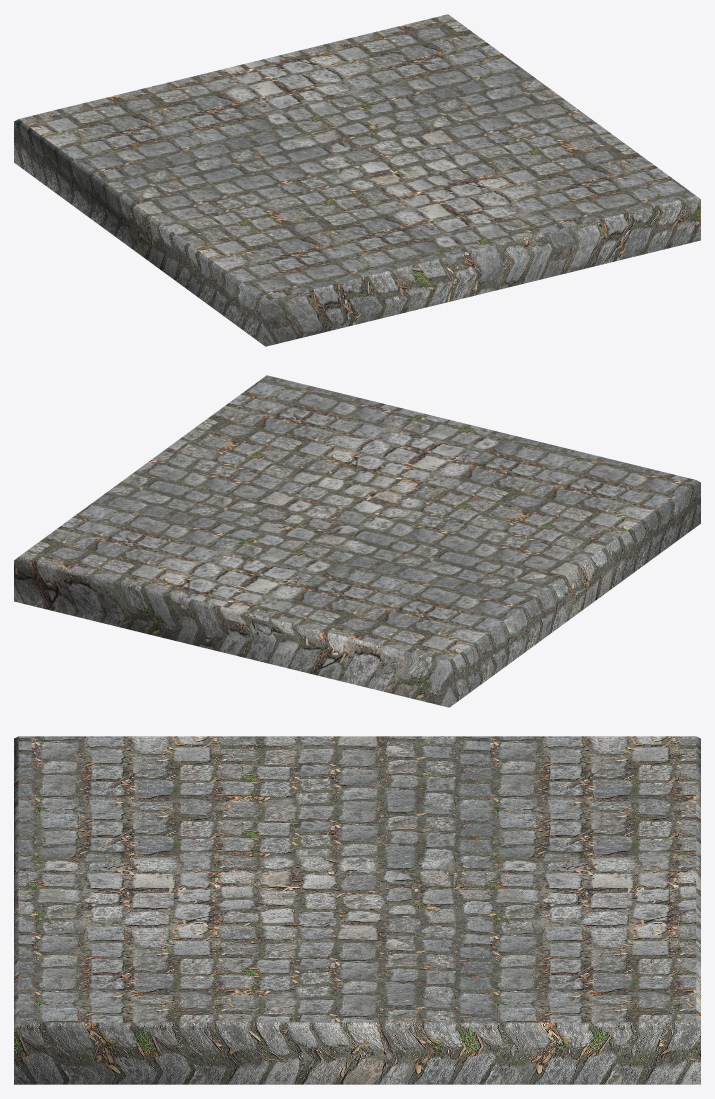
File: Floor_Spike_Anim.FBX
3 views of the same model, one above another, from view 1: azimuth 30°, elevation 25°; view 2: azimuth 150°, elevation 25°; view 3: azimuth 270°, elevation 25° (orthographic). The views are drawn at different scales.
Parts seen in each view (by area): view 1: Base_Spikes; view 2: Base_Spikes; view 3: Base_Spikes.
Part boxes in pixels (x1,y1,x2,y2): Base_Spikes: [14, 14, 700, 346]; Base_Spikes: [14, 375, 700, 707]; Base_Spikes: [14, 736, 700, 1084].
Bounding box in the file's own units: 405 × 60.22 × 406.
